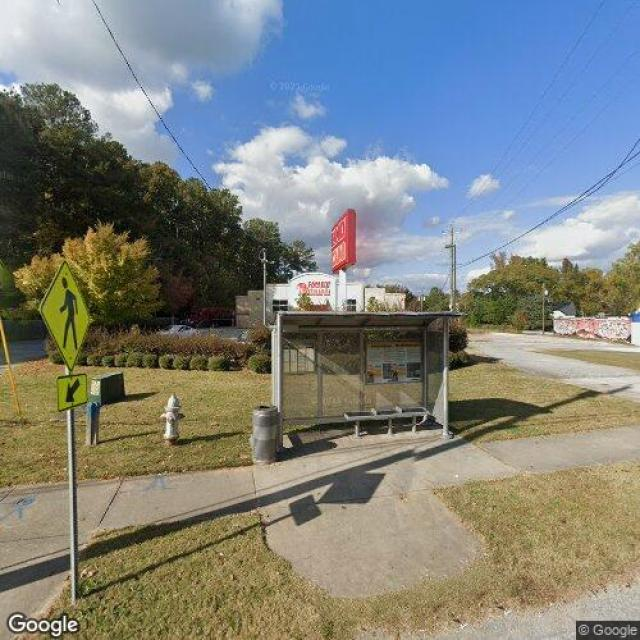seating: (343, 406, 429, 440)
shelter: (270, 311, 467, 452)
trash_can: (252, 404, 277, 464)
